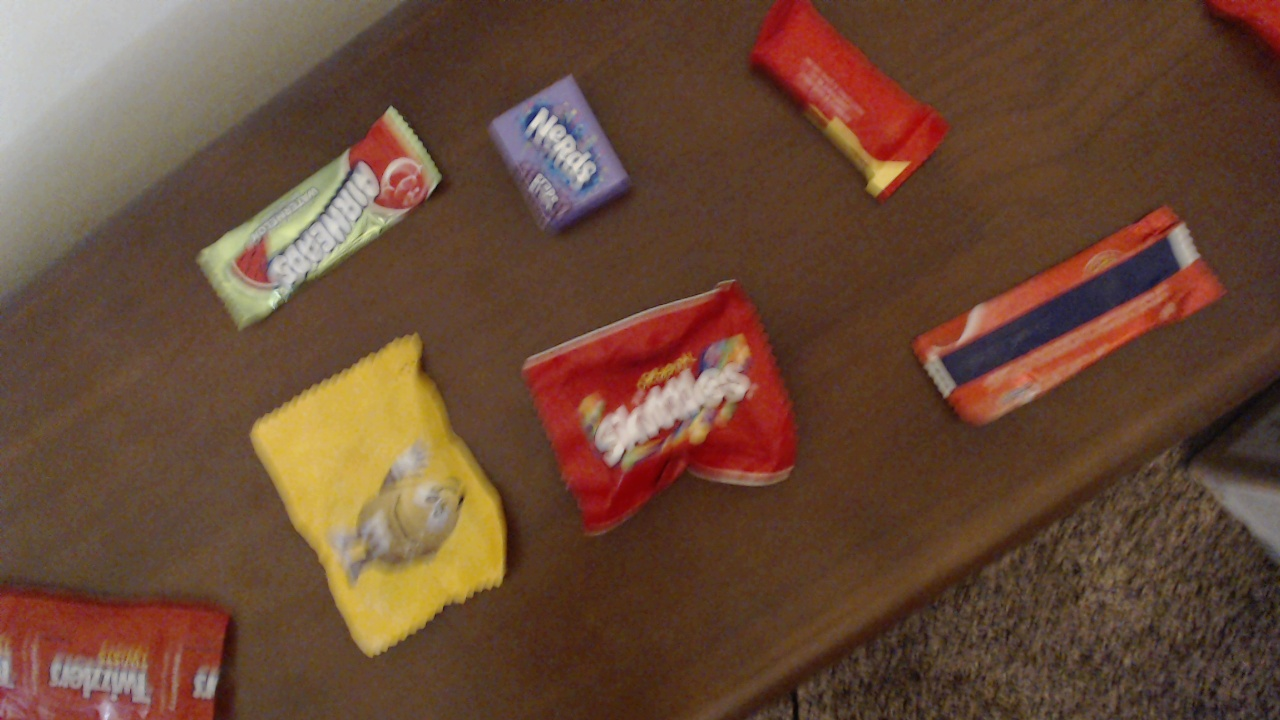MMs_regular: (218, 365, 529, 663)
airheads: (908, 208, 1259, 407), (168, 96, 456, 321)
nerds: (475, 66, 646, 227)
skittles: (515, 271, 844, 501)
starbust: (729, 1, 979, 218)
twizzlers: (0, 580, 247, 712)
